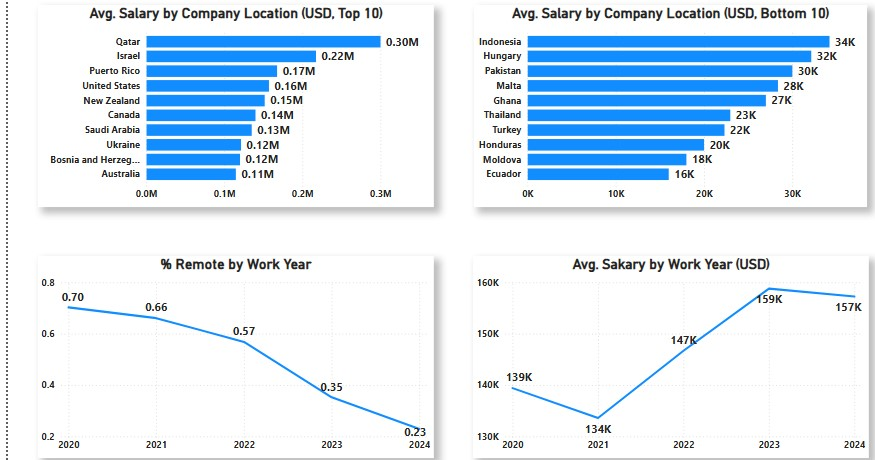

Layout of this report page (visuals, bound fields, positions):
{"tool":"powerbi","page":{"name":"Page 2","canvas":[1280,720],"ordinal":1},"visuals":[{"type":"clusteredBarChart","title":"Avg. Salary by Company Location (USD, Top 10)","fields":{"Y":["Ubong_Dataset_1.(USD)Avg Salary (USD)"],"Category":["Ubong_Dataset_1.company_location"]},"box":[43.2,23,570.2,290.9],"z":0},{"type":"clusteredBarChart","title":"Avg. Salary by Company Location (USD, Bottom 10)","fields":{"Y":["Ubong_Dataset_1.(USD)Avg Salary (USD)"],"Category":["Ubong_Dataset_1.company_location"]},"box":[671,23,565.9,290.9],"z":1000},{"type":"lineChart","title":"% Remote by Work Year","fields":{"Y":["Ubong_Dataset_1.Pct Remote"],"Category":["Ubong_Dataset_1.work_year"]},"box":[43.2,384.5,570.2,290.9],"z":2000},{"type":"lineChart","title":"Avg. Sakary by Work Year (USD)","fields":{"Y":["Ubong_Dataset_1.(USD)Avg Salary (USD)"],"Category":["Ubong_Dataset_1.work_year"]},"box":[669.6,384.5,570.2,290.9],"z":3000}]}

Visuals, with their boxes on the page's 1280x720 design canvas (x1, y1, x2, y2). These are canvas units, not pixel positions in the 875x460 screenshot, which may show the page scaled, cropped or inside an application window:
"Avg. Salary by Company Location (USD, Top 10)" clusteredBarChart: (left=43, top=23, right=613, bottom=314)
"Avg. Salary by Company Location (USD, Bottom 10)" clusteredBarChart: (left=671, top=23, right=1237, bottom=314)
"% Remote by Work Year" lineChart: (left=43, top=384, right=613, bottom=675)
"Avg. Sakary by Work Year (USD)" lineChart: (left=670, top=384, right=1240, bottom=675)
